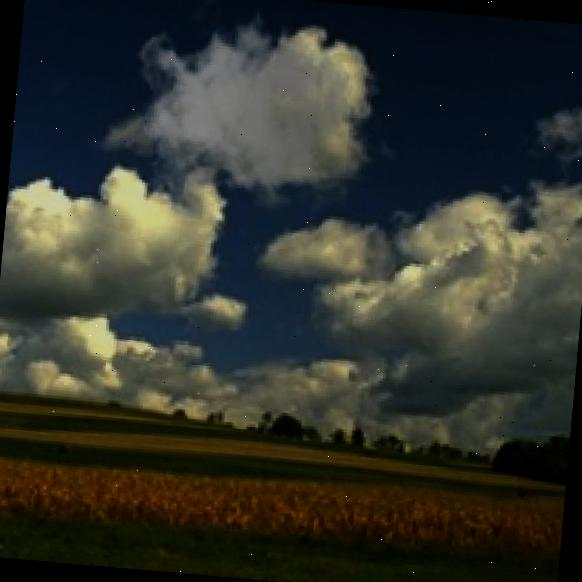smoke: (119, 0, 361, 232)
